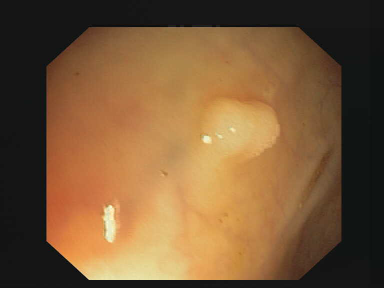polyp: (181, 81, 299, 169)
